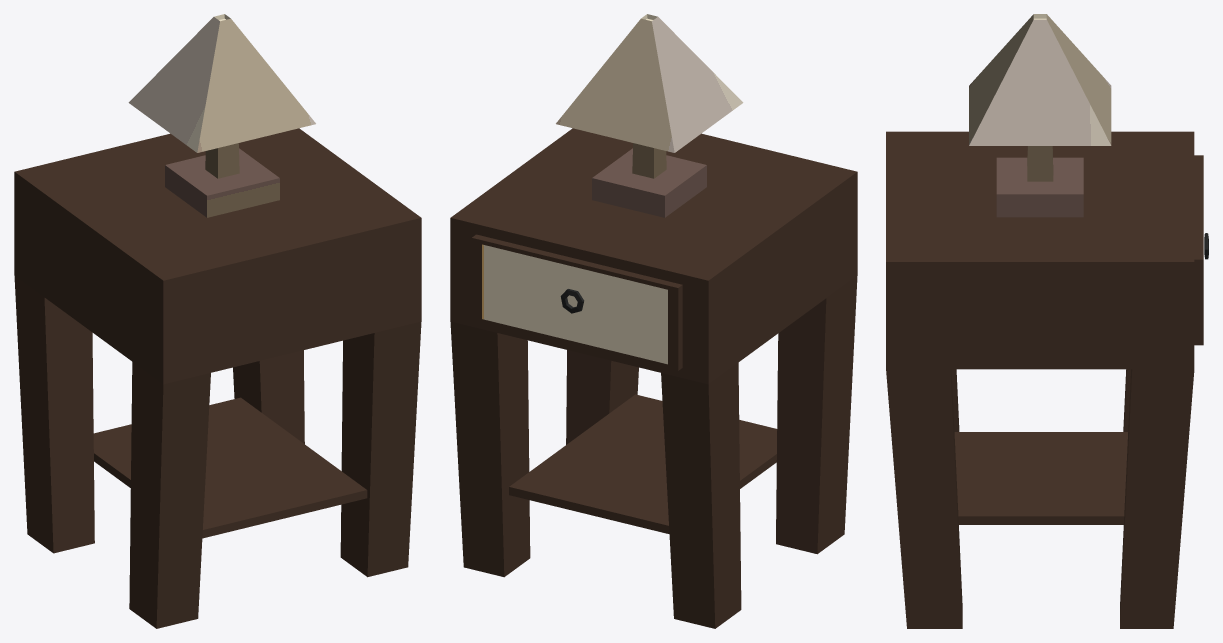
Rendered from Accesories_Bedside_Table_B.001.glb.
The picture shows the model from 3 angles, left to right: view 1: azimuth 30°, elevation 25°; view 2: azimuth 150°, elevation 25°; view 3: azimuth 270°, elevation 25°; orthographic projection. The views are drawn at different scales.
Parts seen in each view (by area): view 1: Accesories_Bedside_Table_B.001; view 2: Accesories_Bedside_Table_B.001; view 3: Accesories_Bedside_Table_B.001.
Boxes of the visible parts, x1=… form: Accesories_Bedside_Table_B.001: x1=14, y1=14, x2=421, y2=628; Accesories_Bedside_Table_B.001: x1=450, y1=14, x2=857, y2=628; Accesories_Bedside_Table_B.001: x1=886, y1=14, x2=1208, y2=628.
Bounding box in the file's own units: 0.2826 × 0.557 × 0.296.
1 material, 1 textured.
